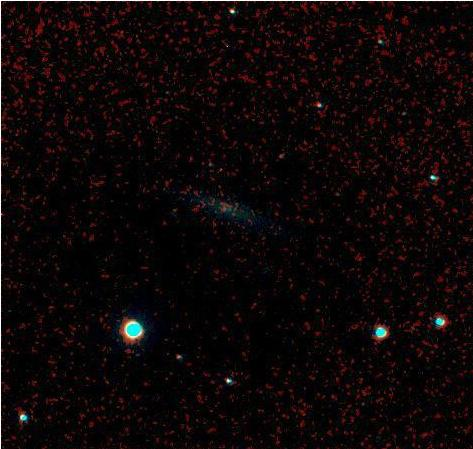star: (106, 15, 136, 45)
